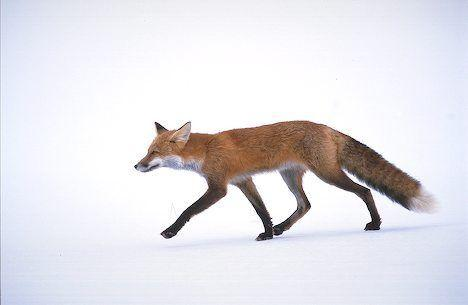fox: (126, 115, 441, 245)
